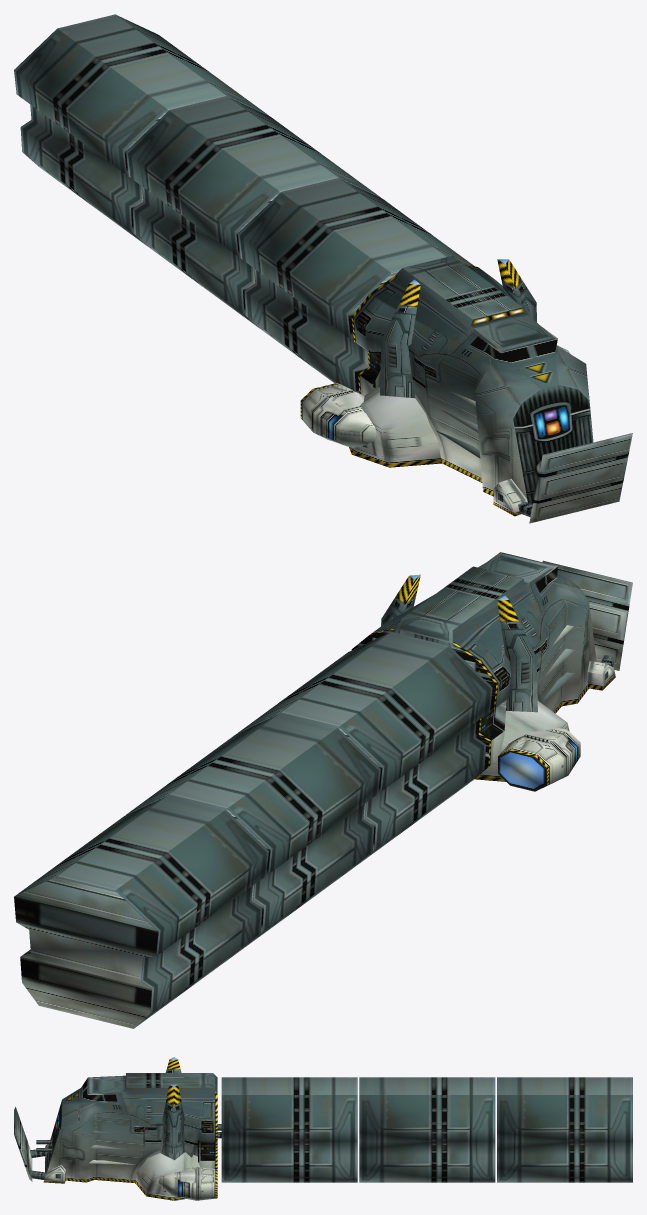
File: utl11.glb
The picture shows the model from 3 angles, top to bottom: view 1: azimuth 30°, elevation 25°; view 2: azimuth 150°, elevation 25°; view 3: azimuth 270°, elevation 25°; orthographic projection. The views are drawn at different scales.
Visible parts, largest first — view 1: utl11; view 2: utl11; view 3: utl11.
Boxes of the visible parts, box(x1,y1,x2,y2) form: utl11: box(14, 14, 632, 523); utl11: box(14, 552, 632, 1028); utl11: box(14, 1057, 632, 1200).
Bounding box in the file's own units: 7.26 × 4.27 × 24.81.
1 material, 1 textured.
